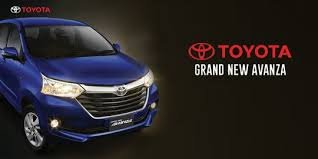mobil: (1, 14, 163, 145)
